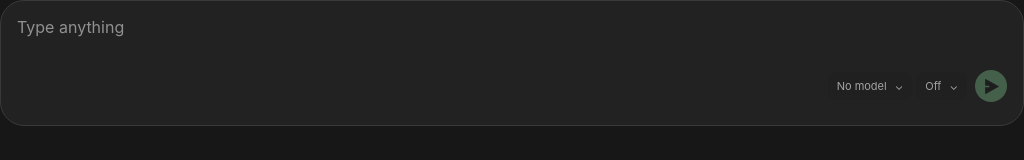
Scenario: ChatComposer › filters and completes runtime slash commands with keyboard controls
Type "/rel" into the text box named "Chat message" at (512, 37), box [17,15,1007,59]
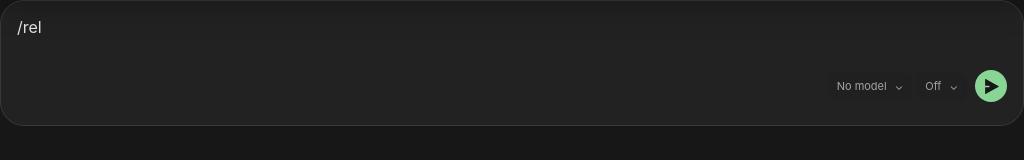
Press Tab in the text box named "Chat message", box [17,15,1007,59]
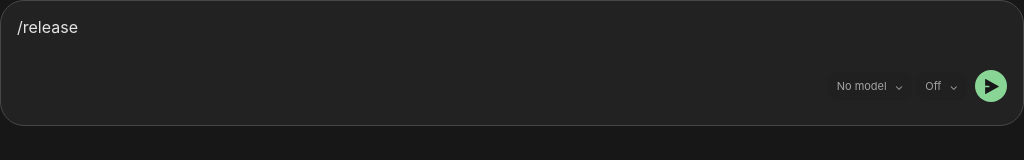
Expected: the text box named "Chat message" holds "/release ", [17,15,1007,59]
